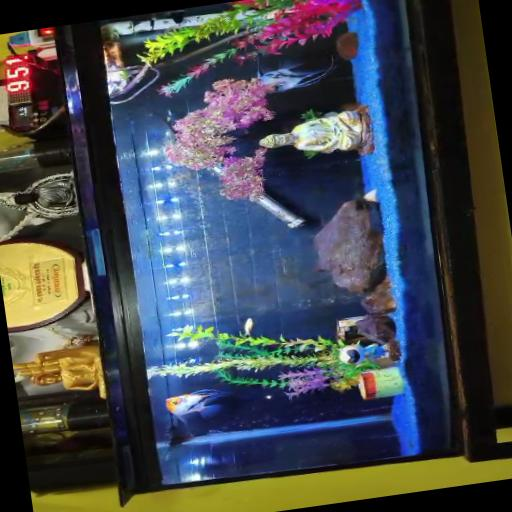Fish: (165, 388, 233, 443), (258, 56, 334, 90), (244, 317, 254, 335)
